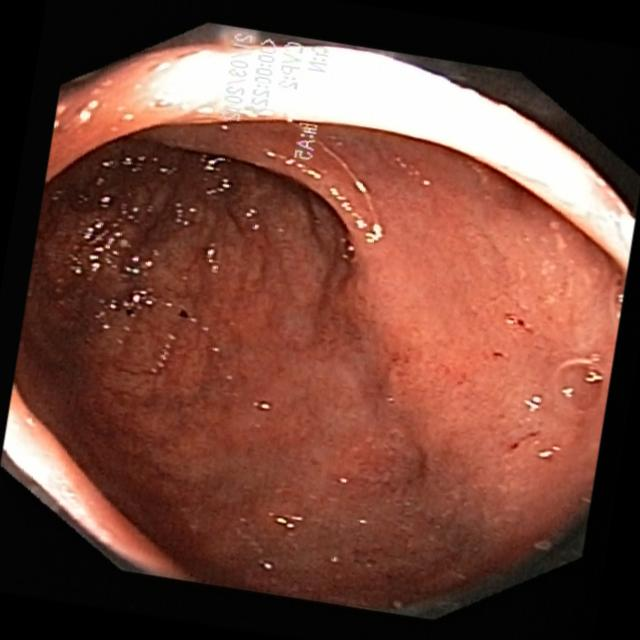ulcerative-colities: (25, 136, 331, 506)
